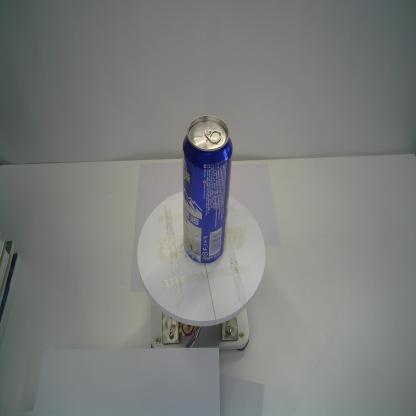Alcohol: (182, 114, 233, 265)
